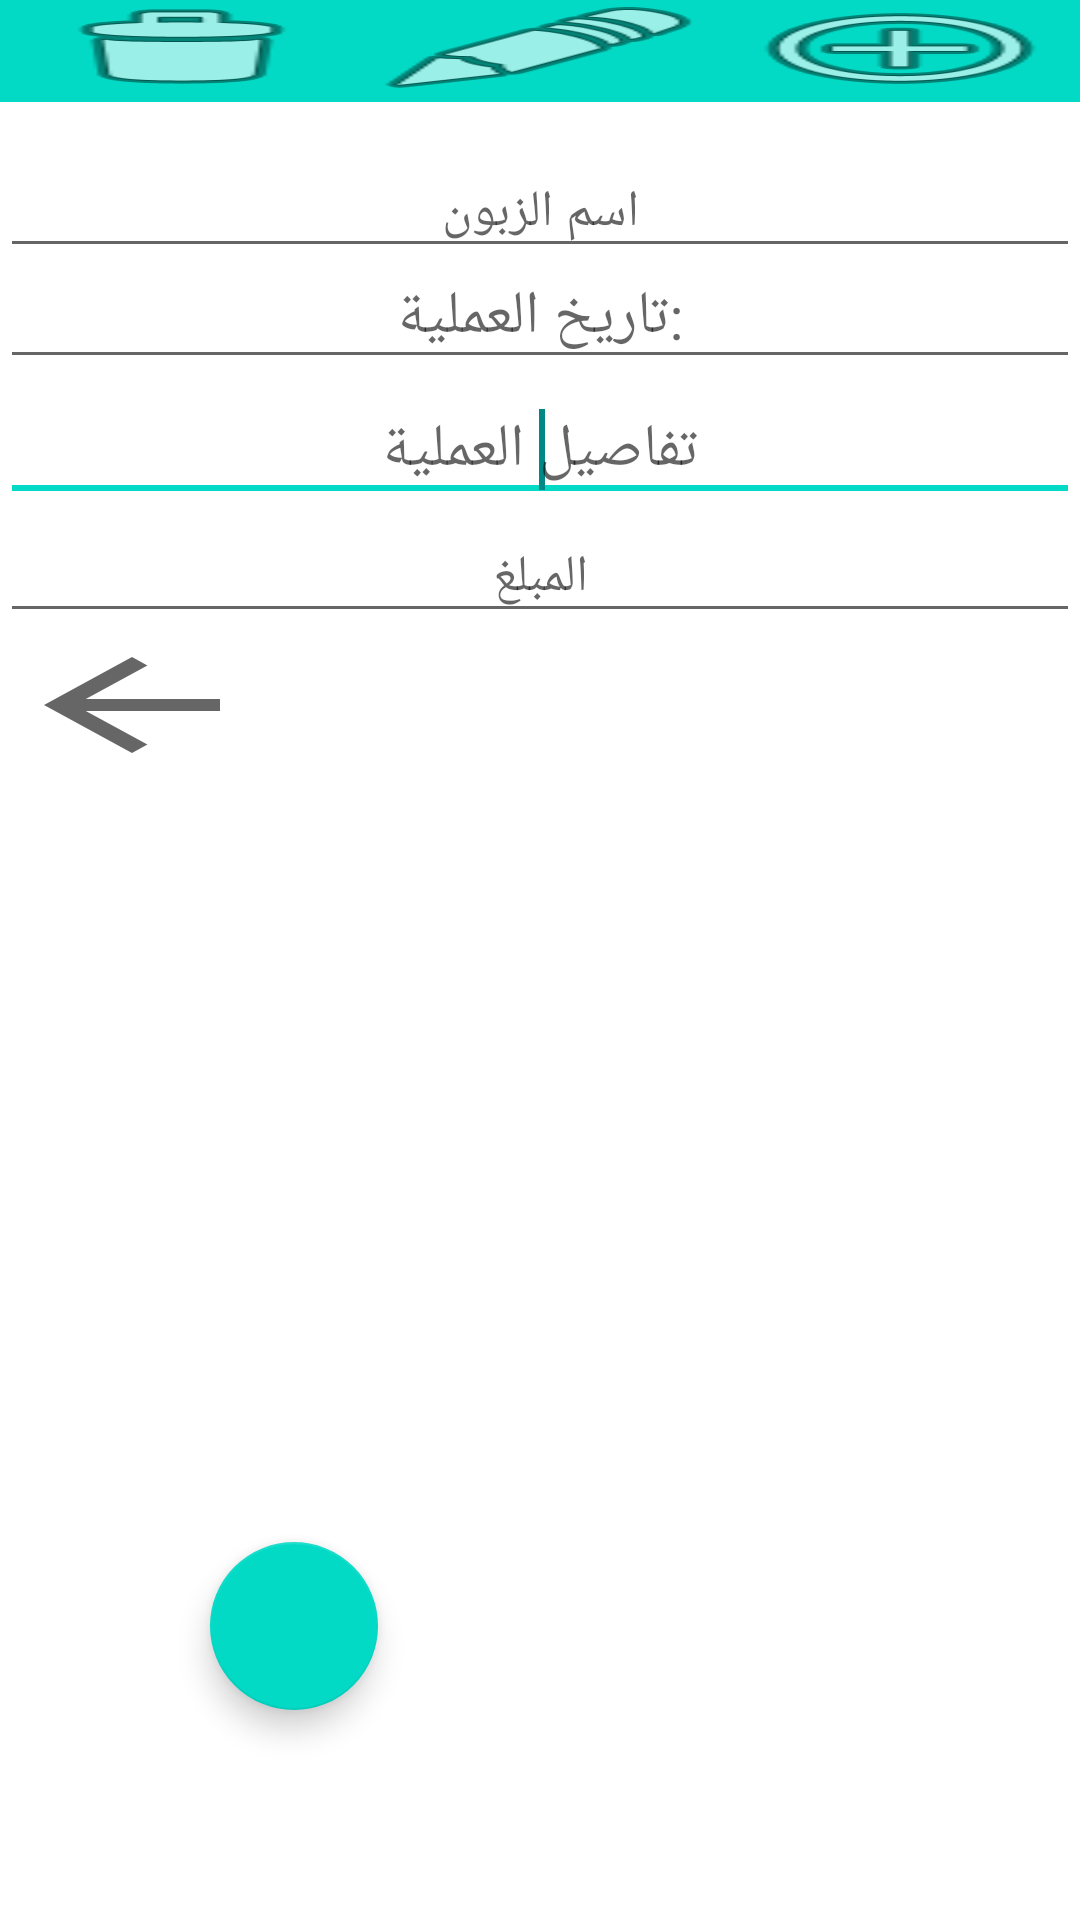

Icon click points for this 1080*1920 phone screenshot, format (x=x, y=y):
add: (x=900, y=48)
delete: (x=182, y=46)
edit: (x=538, y=47)
